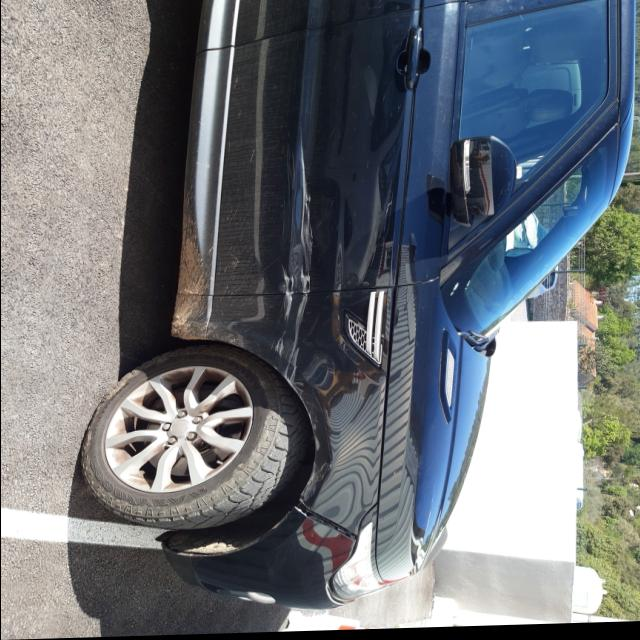porte-avant: (182, 0, 624, 264)
